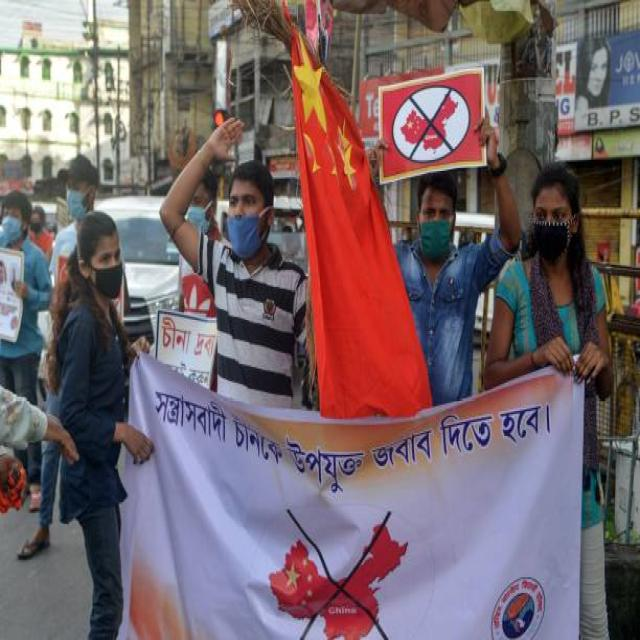LMV: (96, 198, 178, 333)
civilian: (486, 162, 612, 638), (48, 212, 153, 638), (160, 118, 306, 406), (396, 118, 519, 403), (0, 191, 49, 403), (48, 154, 98, 287), (18, 441, 59, 558), (38, 365, 53, 408), (106, 63, 113, 89)
